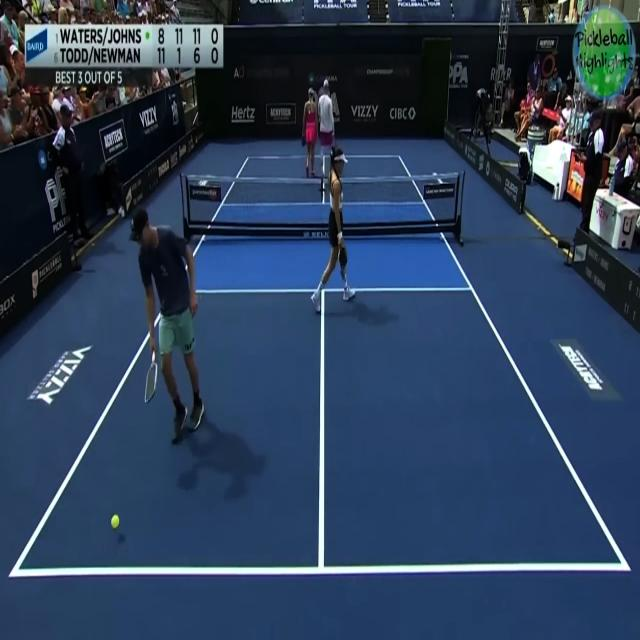Pickleball: (110, 511, 120, 531)
